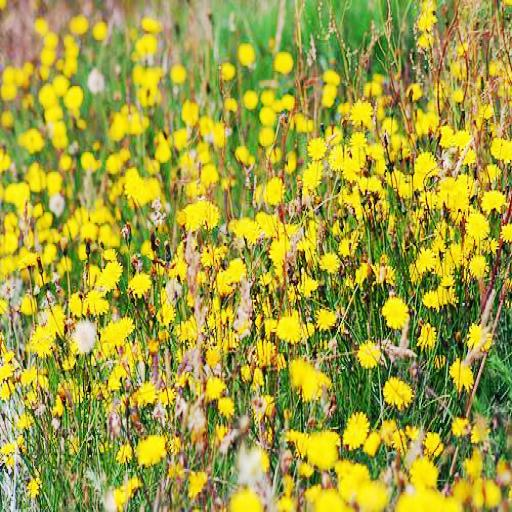dandelion: (72, 318, 100, 355), (49, 195, 66, 212), (322, 343, 322, 344)
